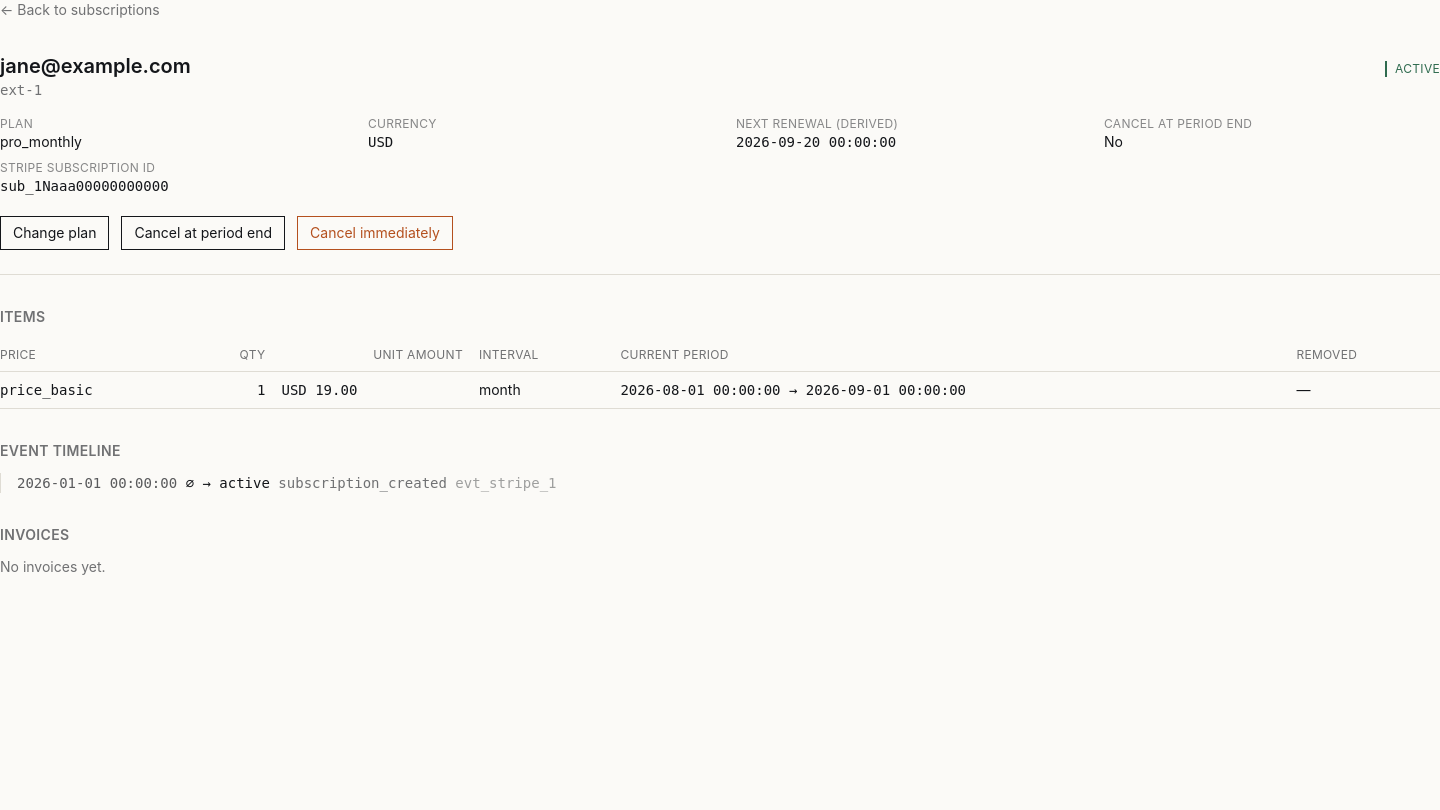
SubscriptionDetailPage cancel confirmation flow › cancel immediately shows the irreversible warning and sends { at_period_end: false } on confirm
The width and height of the screenshot is (1440, 810).
Expected: the heading "jane@example.com" is shown, [0, 52, 191, 80]
Step 1. Click the button "Cancel immediately" → (375,233), box [297, 216, 453, 250]
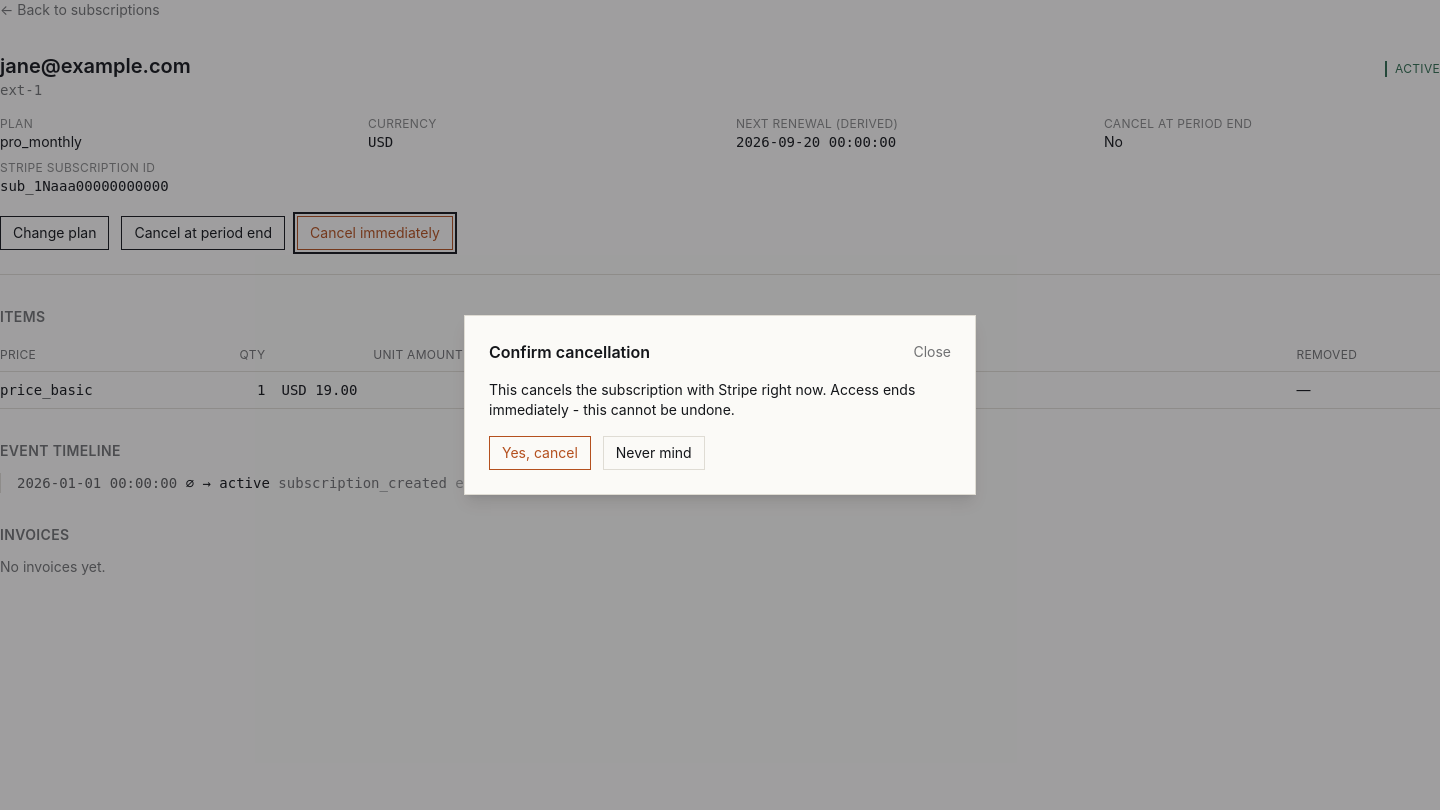
Expected: the text "cannot be undone" is shown, [489, 381, 915, 418]
Step 2. Click the button "Yes, cancel" → (540,453), box [489, 436, 591, 470]
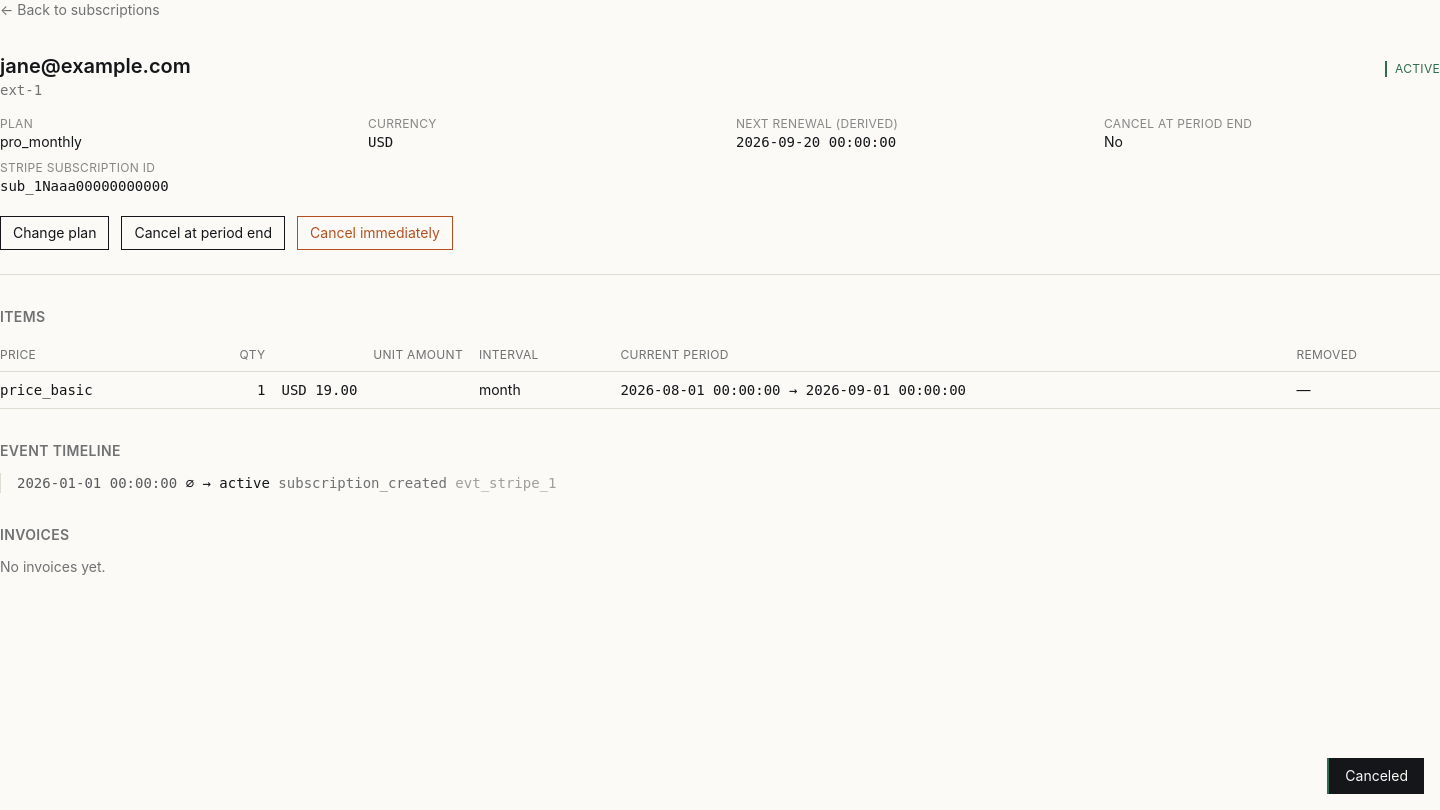
Expected: the text "Canceled" is shown, [1327, 758, 1424, 794]
